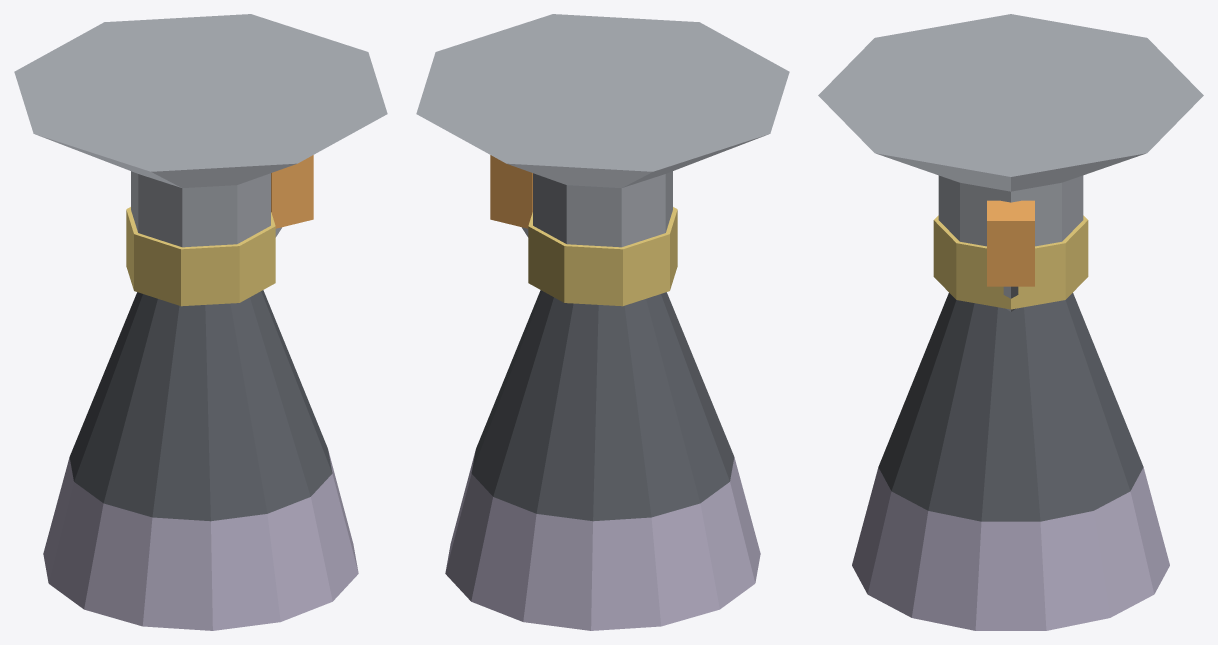
The model's file is engine_eco.glb.
3 views of the same model, side by side, from view 1: azimuth 30°, elevation 25°; view 2: azimuth 150°, elevation 25°; view 3: azimuth 270°, elevation 25° (orthographic).
Visible parts, largest first — view 1: engine_eco; view 2: engine_eco; view 3: engine_eco.
Boxes of the visible parts, <box> form: engine_eco: <box>14,14,387,630</box>; engine_eco: <box>416,14,789,630</box>; engine_eco: <box>818,14,1203,630</box>.
Bounding box in the file's own units: 1.6 × 2.15 × 1.6.
